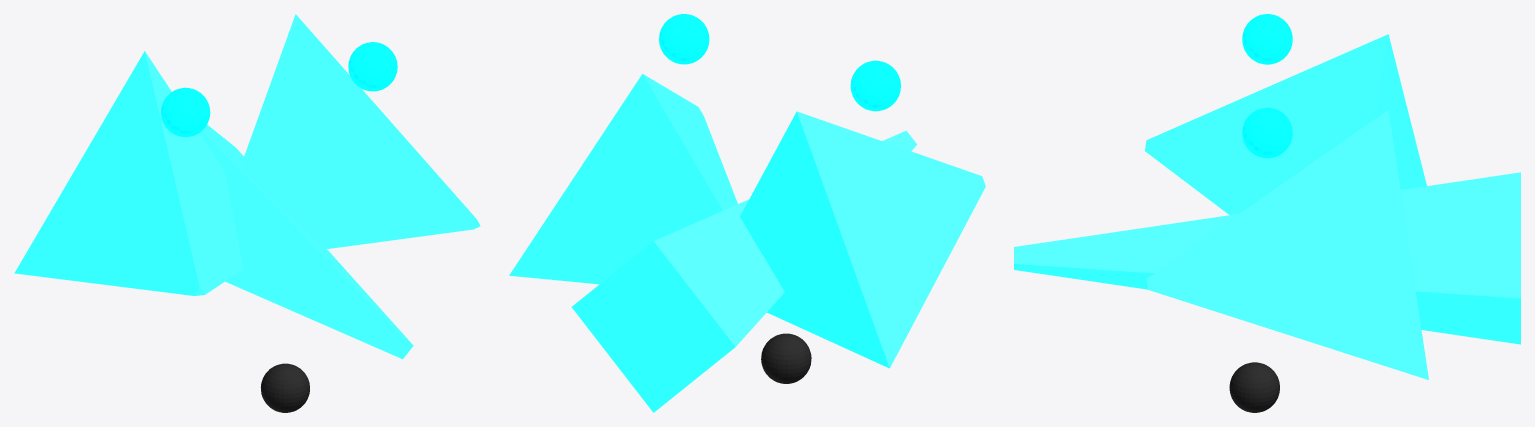
Rendered from enemy_speeder.glb.
3 views of the same model, side by side, from view 1: azimuth 30°, elevation 25°; view 2: azimuth 150°, elevation 25°; view 3: azimuth 270°, elevation 25° (orthographic). The views are drawn at different scales.
Parts seen in each view (by area): view 1: SpdWing-1, SpdWing1, SpdBody, SpdEng1, SpdCockpit, SpdEng-1; view 2: SpdWing-1, SpdWing1, SpdBody, SpdCockpit, SpdEng-1, SpdEng1; view 3: SpdWing1, SpdBody, SpdWing-1, SpdEng1, SpdEng-1, SpdCockpit.
Part boxes in pixels (box(x1,y1,x2,y2)): SpdWing-1: box(14, 51, 243, 295); SpdWing1: box(240, 14, 480, 249); SpdBody: box(199, 124, 413, 359); SpdEng1: box(348, 42, 397, 91); SpdCockpit: box(260, 363, 309, 412); SpdEng-1: box(161, 87, 210, 137); SpdWing-1: box(740, 111, 985, 368); SpdWing1: box(509, 74, 737, 284); SpdBody: box(571, 130, 917, 412); SpdCockpit: box(761, 333, 811, 383); SpdEng-1: box(850, 60, 900, 111); SpdEng1: box(659, 14, 709, 64); SpdWing1: box(1145, 110, 1428, 379); SpdBody: box(1014, 172, 1520, 344); SpdWing-1: box(1145, 34, 1426, 215); SpdEng1: box(1242, 107, 1292, 158); SpdEng-1: box(1242, 14, 1292, 64); SpdCockpit: box(1229, 362, 1279, 412).
Bounding box in the file's own units: 1.39 × 1.21 × 1.6.
